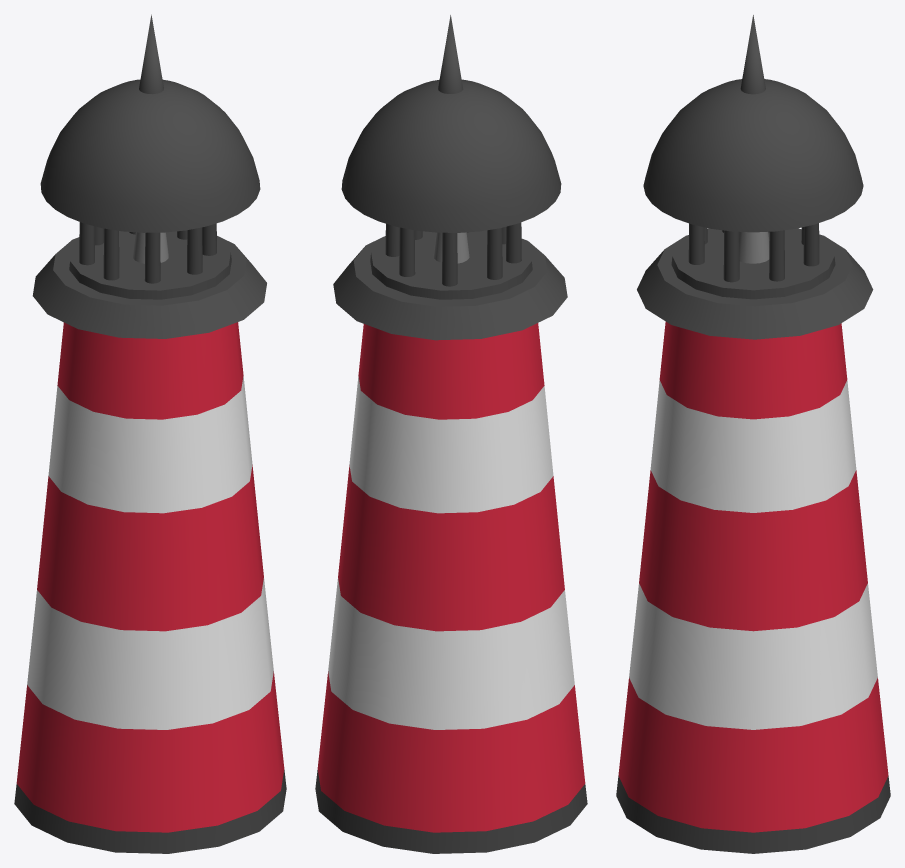
Rendered from Majak.fbx.
3 views of the same model, side by side, from view 1: azimuth 30°, elevation 25°; view 2: azimuth 150°, elevation 25°; view 3: azimuth 270°, elevation 25° (orthographic).
Visible parts, largest first — view 1: Cylinder; view 2: Cylinder; view 3: Cylinder.
Boxes of the visible parts, x1,y1,x2,y2 form: Cylinder: [14, 14, 286, 853]; Cylinder: [315, 15, 587, 853]; Cylinder: [616, 15, 890, 853].
Bounding box in the file's own units: 241 × 757 × 241.
